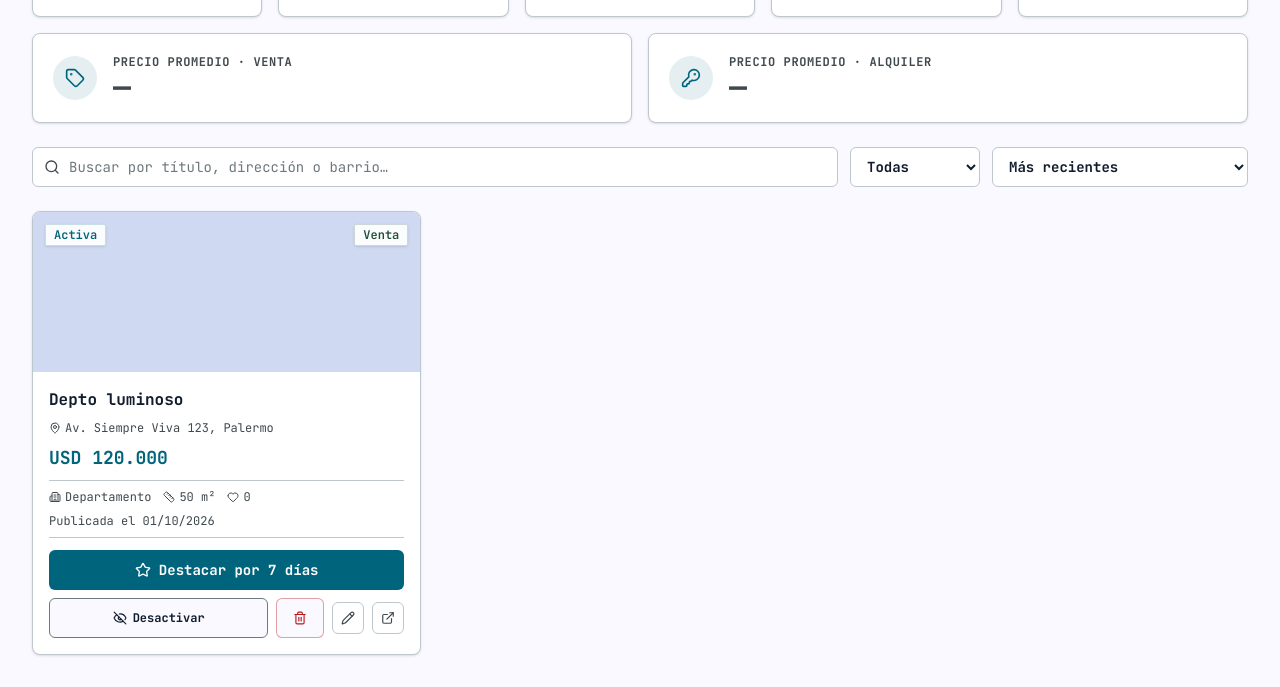
it: Reserva de destacado cuando no hay lugar › sin lugar, pregunta si acepta la fecha y al aceptar reserva con esa fecha
Later steps or results of the test are not shown.
(page scrolled)
Click the button "Destacar por 7 días" at (227, 570), box [49,550,404,590]
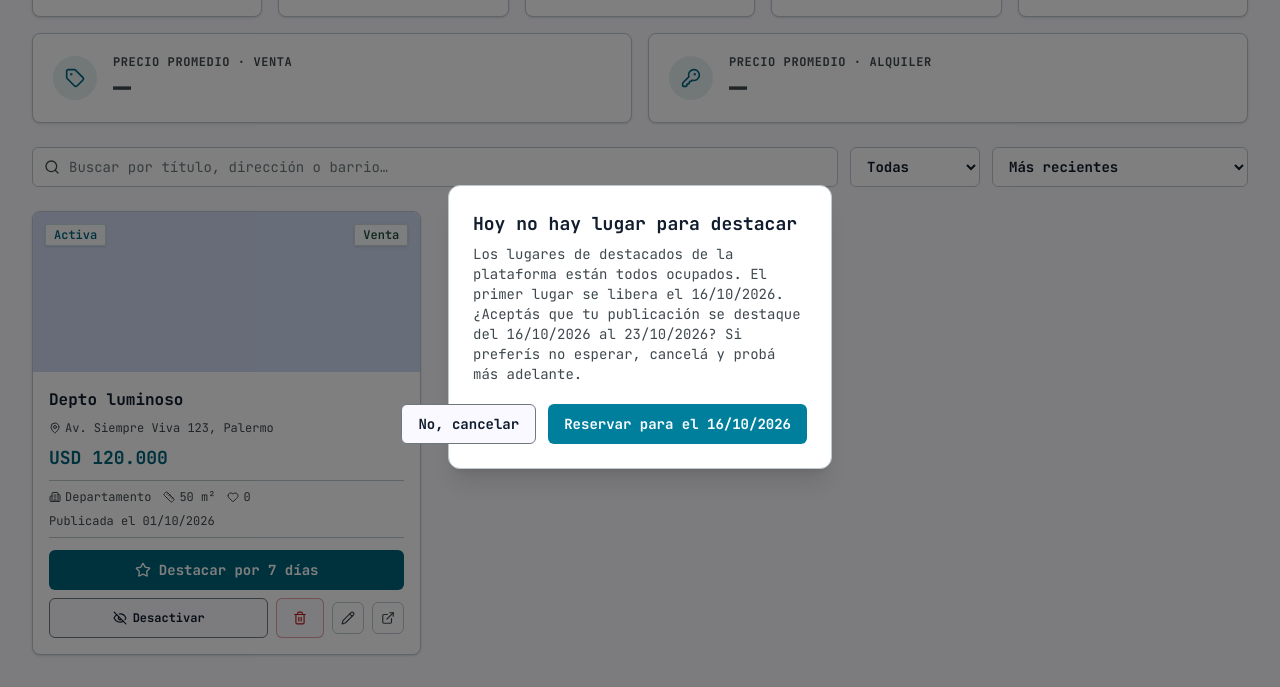
Check: the heading "Hoy no hay lugar para destacar" is shown, box [473,210,807,238]
Check: the text "todos ocupados" is shown, box [473,245,801,383]
